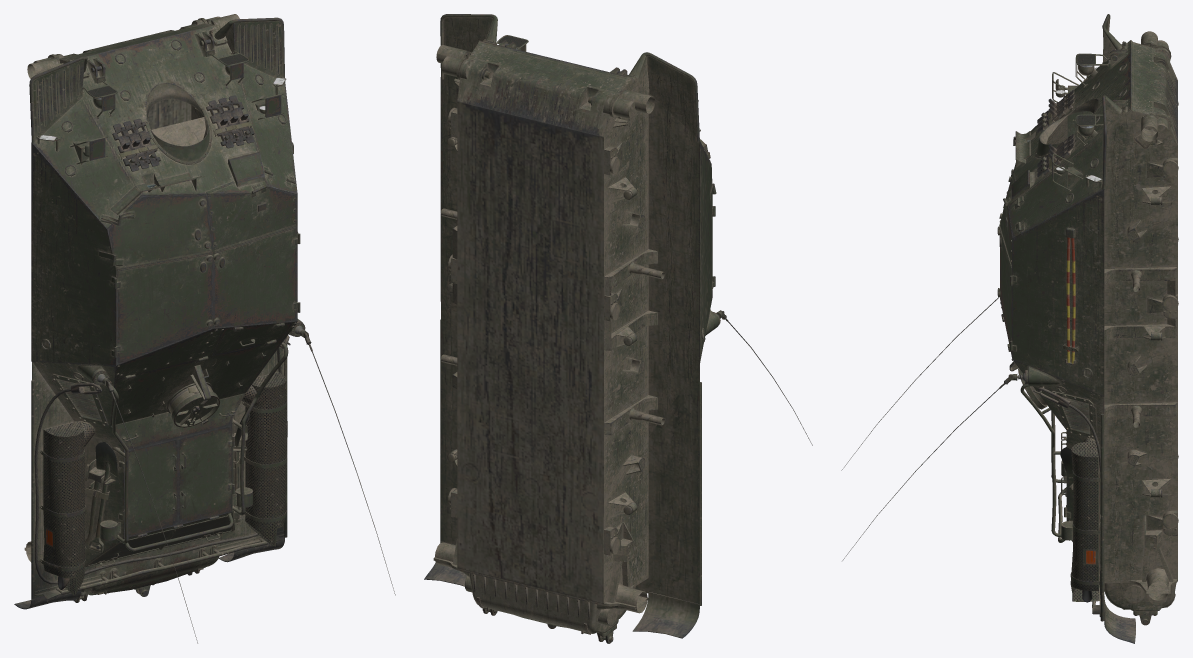
File: Hull.glb
3 views of the same model, side by side, from view 1: azimuth 30°, elevation 25°; view 2: azimuth 150°, elevation 25°; view 3: azimuth 270°, elevation 25° (orthographic). The views are drawn at different scales.
Parts seen in each view (by area): view 1: set_0_group_0; view 2: set_0_group_0; view 3: set_0_group_0.
Part boxes in pixels (left/top/right/bottom): set_0_group_0: left=14, top=14, right=395, bottom=643; set_0_group_0: left=424, top=14, right=812, bottom=643; set_0_group_0: left=841, top=14, right=1178, bottom=643.
Size of the model in its own units: 2.25 by 4.78 by 2.71.
Materials: 1 (1 with a texture image).
